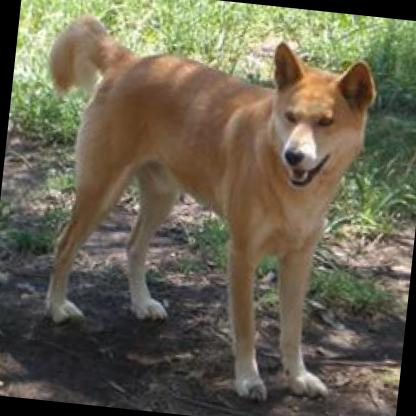dingo: (11, 5, 382, 414)
